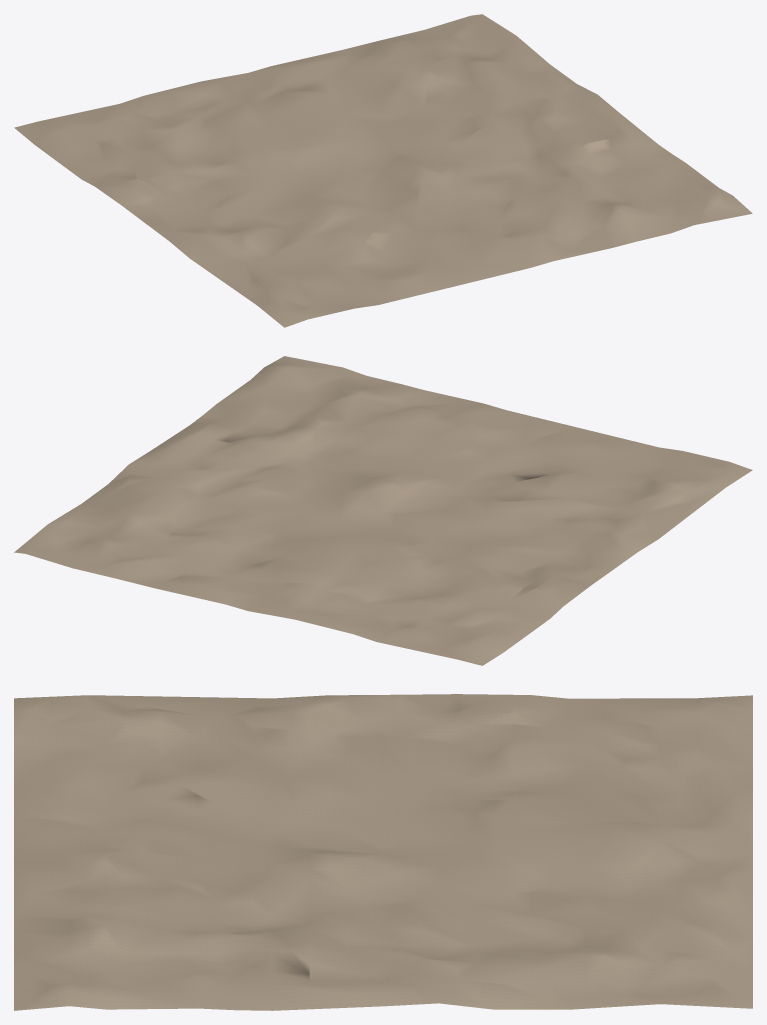
Rendered from M_haidishatan01.FBX.
The picture shows the model from 3 angles, top to bottom: view 1: azimuth 30°, elevation 25°; view 2: azimuth 150°, elevation 25°; view 3: azimuth 270°, elevation 25°; orthographic projection. The views are drawn at different scales.
Visible parts, largest first — view 1: M_haidishatan01; view 2: M_haidishatan01; view 3: M_haidishatan01.
Boxes of the visible parts, box(x1,y1,x2,y2) form: M_haidishatan01: box(14, 14, 752, 327); M_haidishatan01: box(14, 356, 752, 665); M_haidishatan01: box(14, 694, 752, 1010).
Bounding box in the file's own units: 100 × 2.45 × 100.
